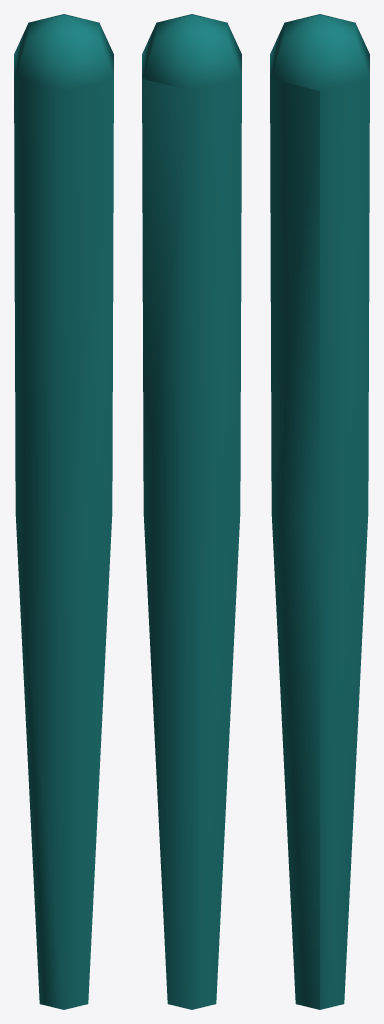
The model's file is baseball_bat_collider.fbx.
3 renders of one model, left to right at view 1: azimuth 30°, elevation 25°; view 2: azimuth 210°, elevation 25°; view 3: azimuth 330°, elevation 25°, orthographic.
Parts seen in each view (by area): view 1: baseball_bat_collider; view 2: baseball_bat_collider; view 3: baseball_bat_collider.
Part boxes in pixels (x1=…): baseball_bat_collider: x1=14, y1=14, x2=113, y2=1009; baseball_bat_collider: x1=142, y1=14, x2=241, y2=1009; baseball_bat_collider: x1=270, y1=14, x2=369, y2=1009.
Size of the model in its own units: 10.29 by 96.65 by 8.91.
